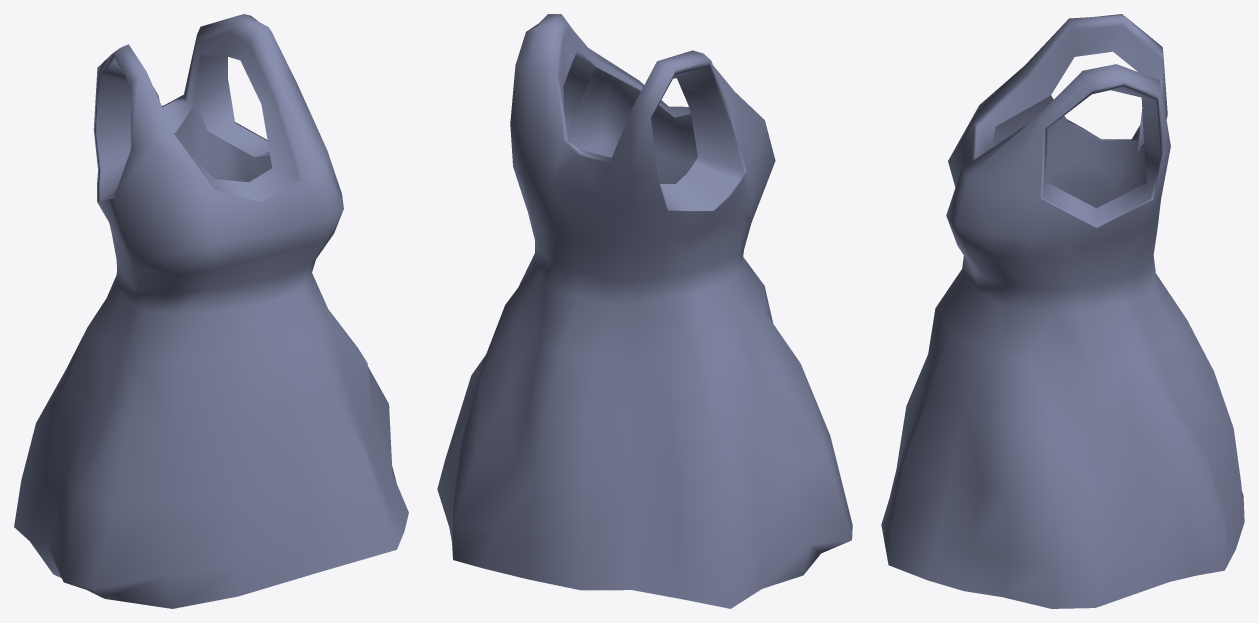
The model's file is M_Robe_Femme Disco 1.fbx.
The picture shows the model from 3 angles, left to right: view 1: azimuth 30°, elevation 25°; view 2: azimuth 150°, elevation 25°; view 3: azimuth 270°, elevation 25°; orthographic projection. The views are drawn at different scales.
Parts seen in each view (by area): view 1: polySurface343; view 2: polySurface343; view 3: polySurface343.
Boxes of the visible parts, left/top/right/bottom form: polySurface343: left=14, top=14, right=408, bottom=608; polySurface343: left=437, top=14, right=852, bottom=608; polySurface343: left=881, top=14, right=1244, bottom=608.
Size of the model in its own units: 0.5478 by 0.4817 by 0.7302.
